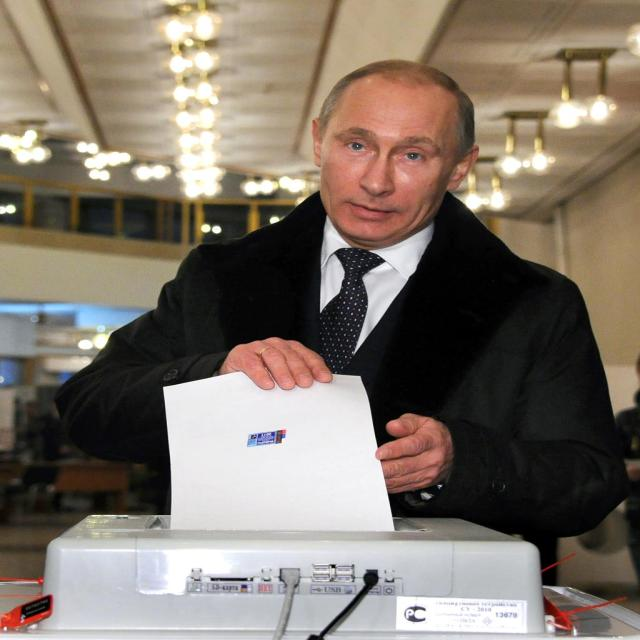Face: (315, 83, 474, 243)
